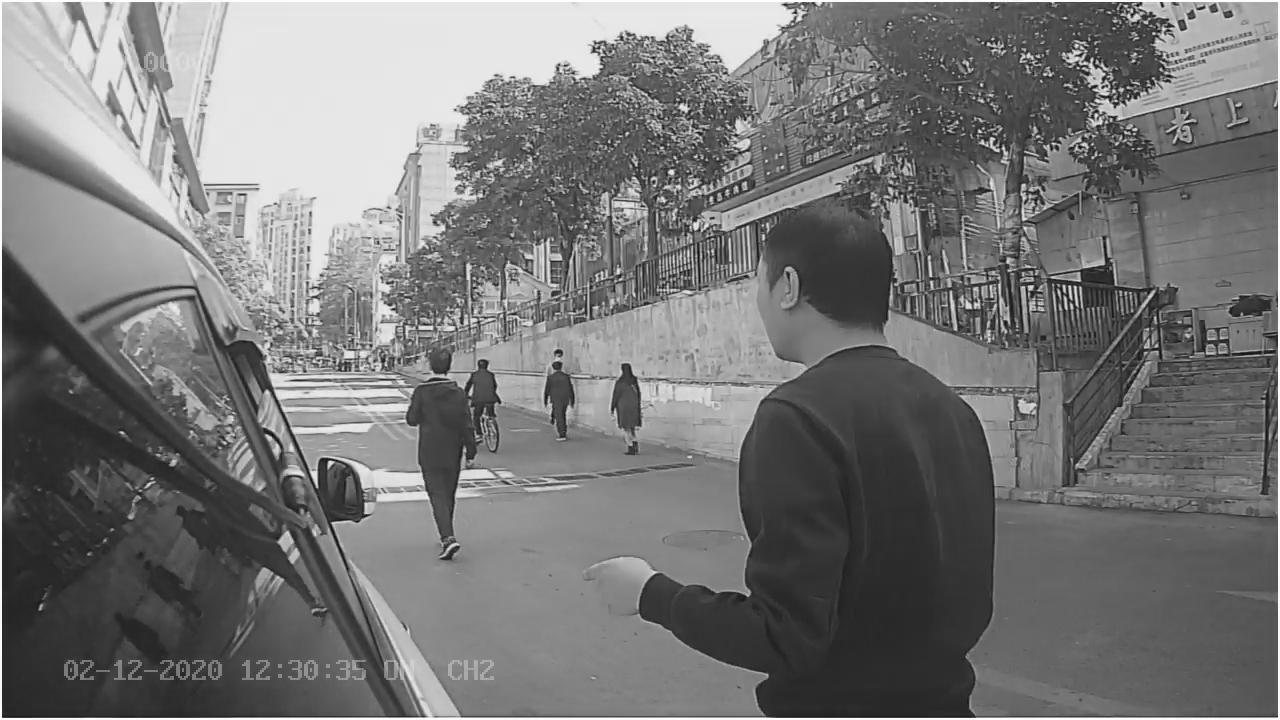person: (724, 195, 992, 542)
